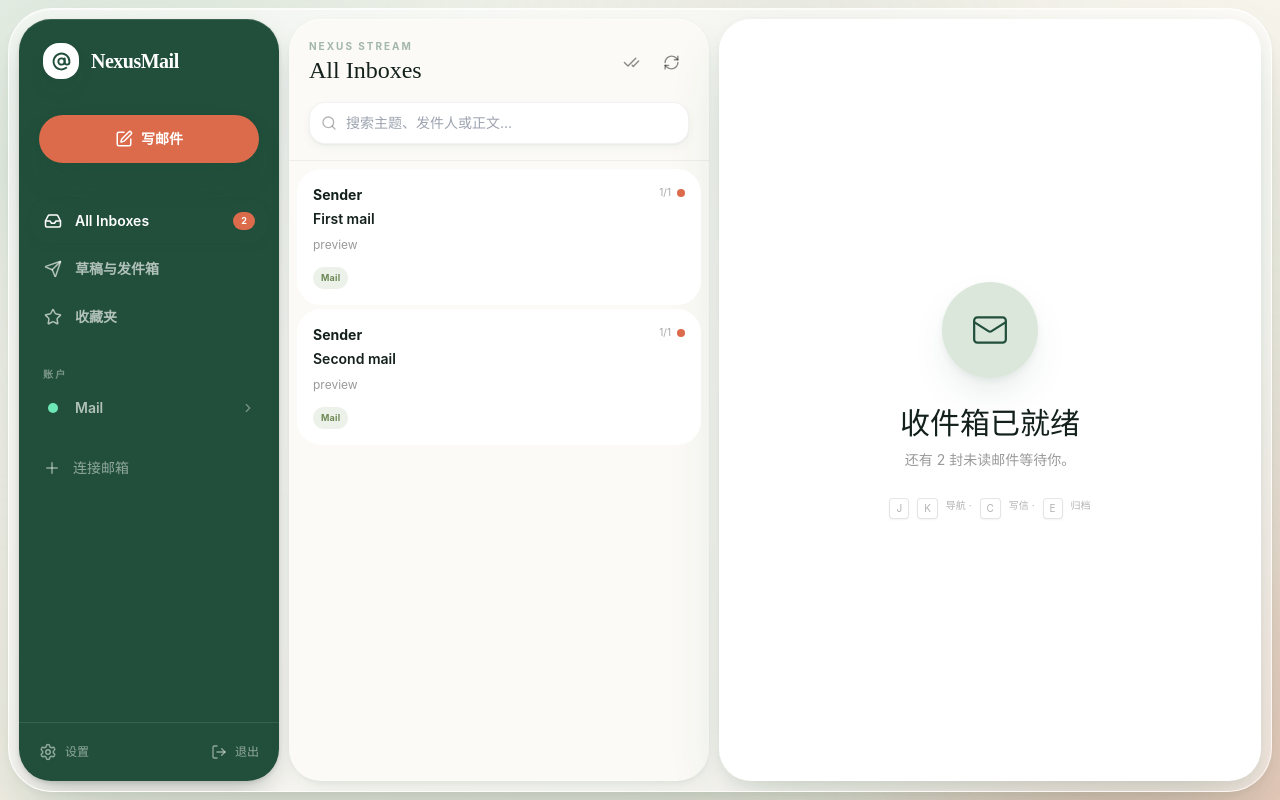
mark the current view read › says more unread mail remains when the server capped the pass
Expected: the button "Sender 1/1 First mail preview Mail" is shown, 297,169 -> 701,304
Step 1. Click the button named "全部已读" → click(631, 62), box 613,44 -> 649,80
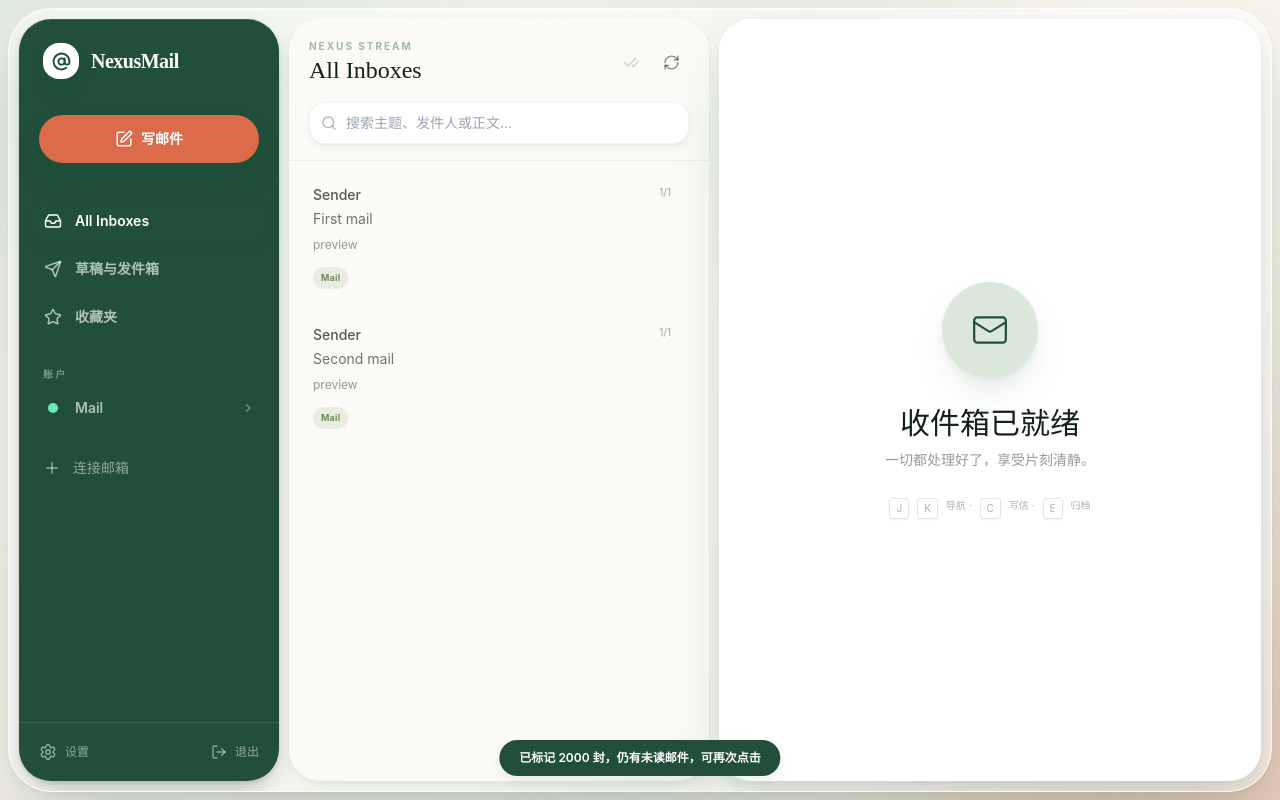
Expected: the message reads "已标记 2000 封，仍有未读邮件，可再次点击", 519,750 -> 761,765
